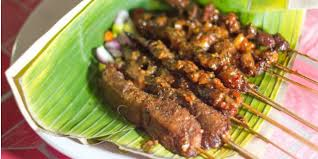sate: (87, 1, 290, 157)
